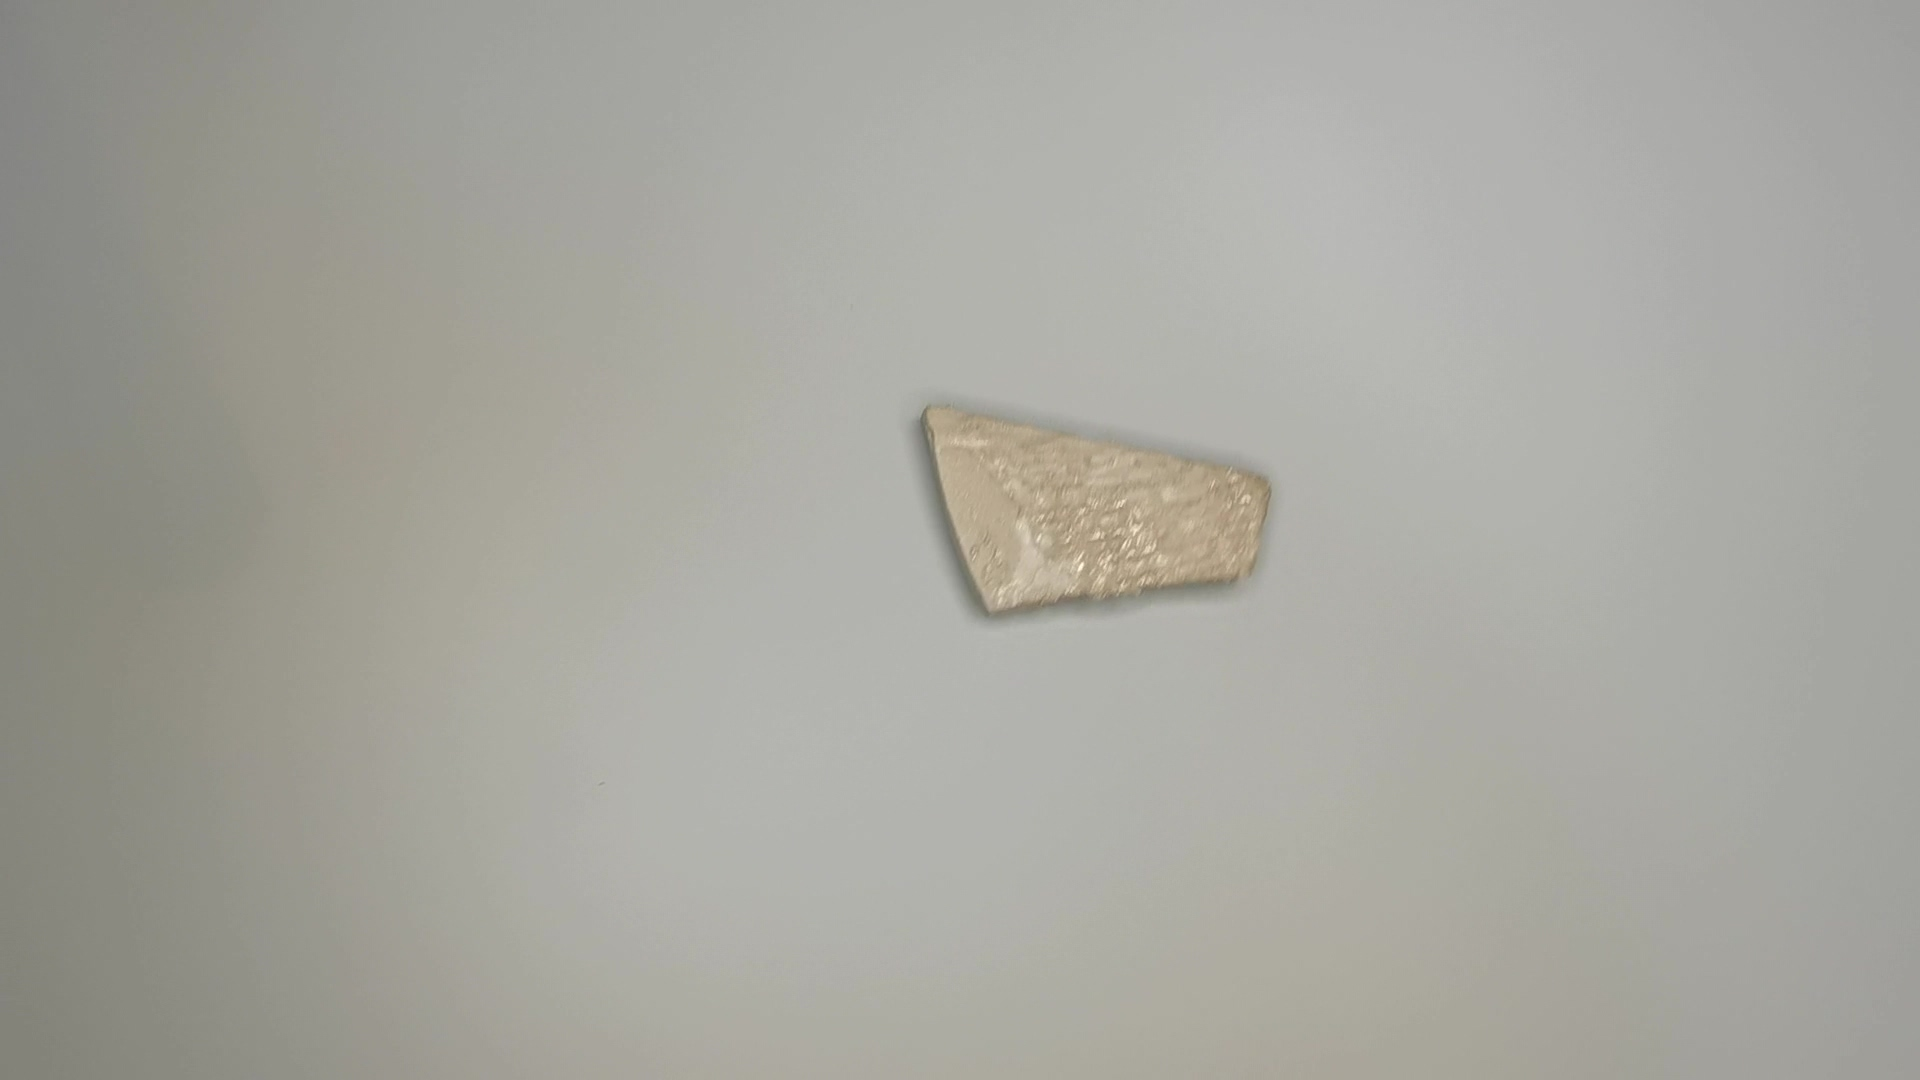ceramic: (922, 400, 1271, 622)
